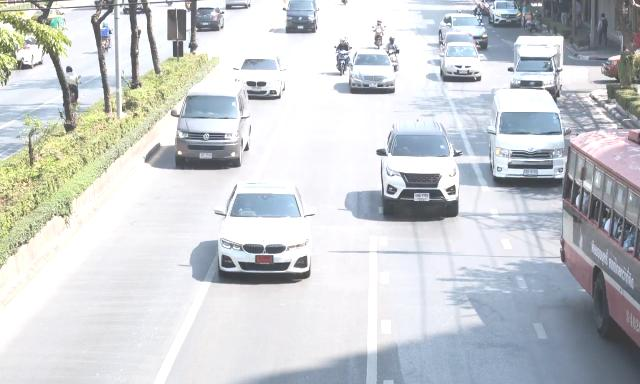carro: (210, 178, 318, 284), (378, 117, 466, 218), (169, 80, 251, 169), (234, 52, 288, 97), (348, 49, 397, 91), (437, 15, 489, 53), (439, 41, 482, 79), (10, 32, 47, 70), (283, 0, 318, 31), (490, 0, 523, 29), (192, 5, 225, 33), (29, 8, 68, 30), (441, 32, 478, 50)
moto: (65, 83, 83, 111), (333, 49, 352, 73), (97, 34, 113, 56), (527, 16, 545, 34), (386, 48, 400, 71), (373, 29, 385, 47), (475, 8, 484, 24)
onibus: (561, 131, 640, 358)
van: (487, 89, 566, 181), (508, 36, 567, 89)
